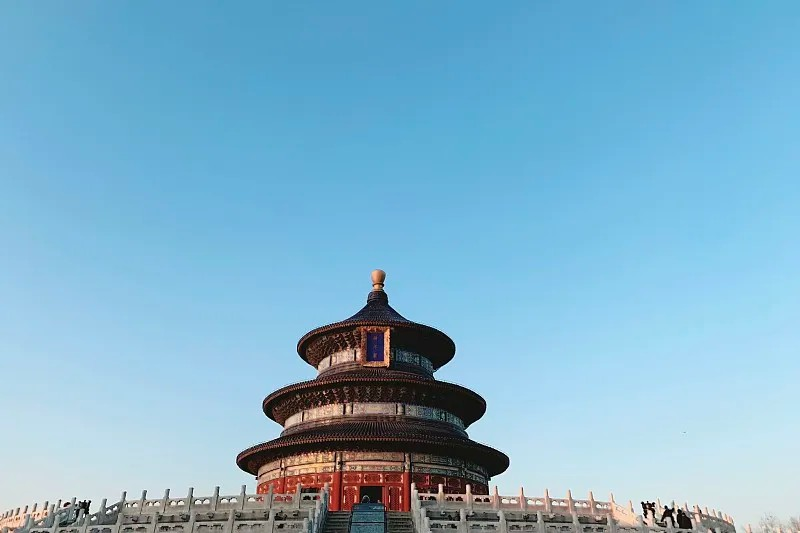Heaven: (235, 269, 510, 509)
